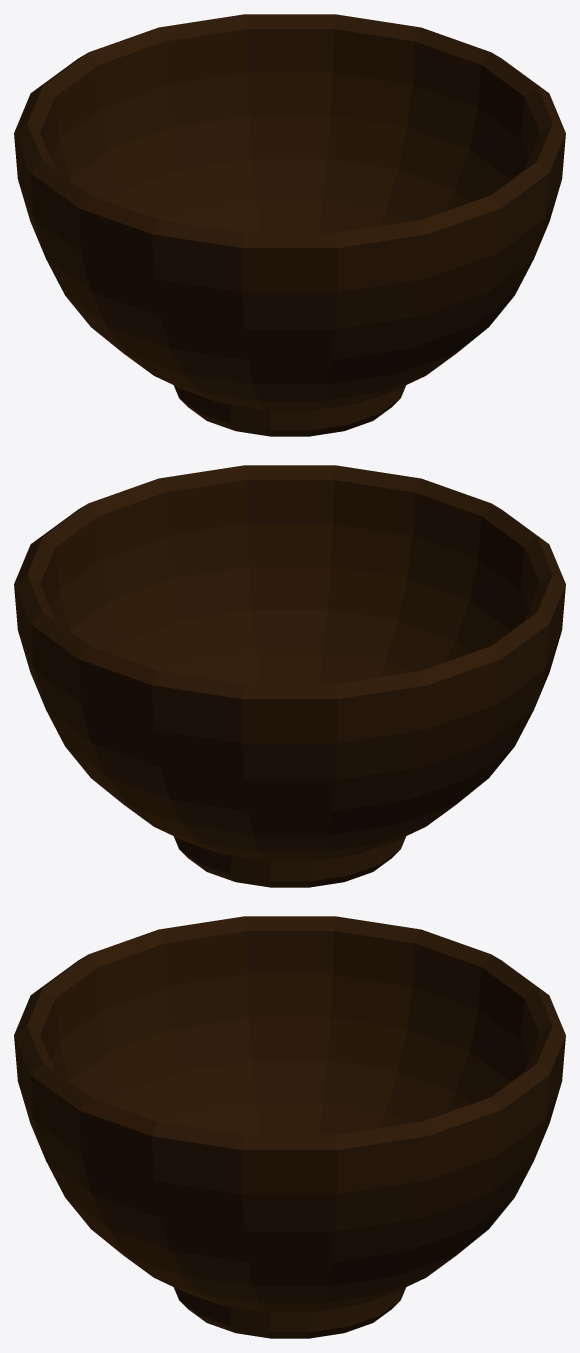
File: Bowl_(Outlined)v003.fbx
The picture shows the model from 3 angles, top to bottom: view 1: azimuth 30°, elevation 25°; view 2: azimuth 150°, elevation 25°; view 3: azimuth 270°, elevation 25°; orthographic projection.
Parts seen in each view (by area): view 1: Sphere; view 2: Sphere; view 3: Sphere.
Part boxes in pixels (x1,y1,x2,y2): Sphere: (14, 14, 565, 436); Sphere: (14, 465, 565, 887); Sphere: (14, 916, 565, 1338).
Size of the model in its own units: 201 by 109 by 204.
